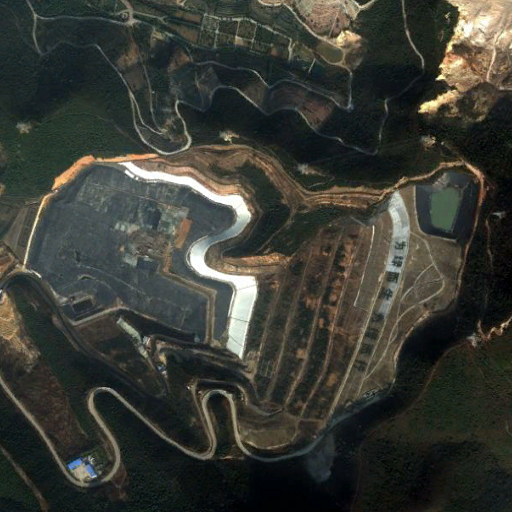lf: (25, 153, 255, 361)
